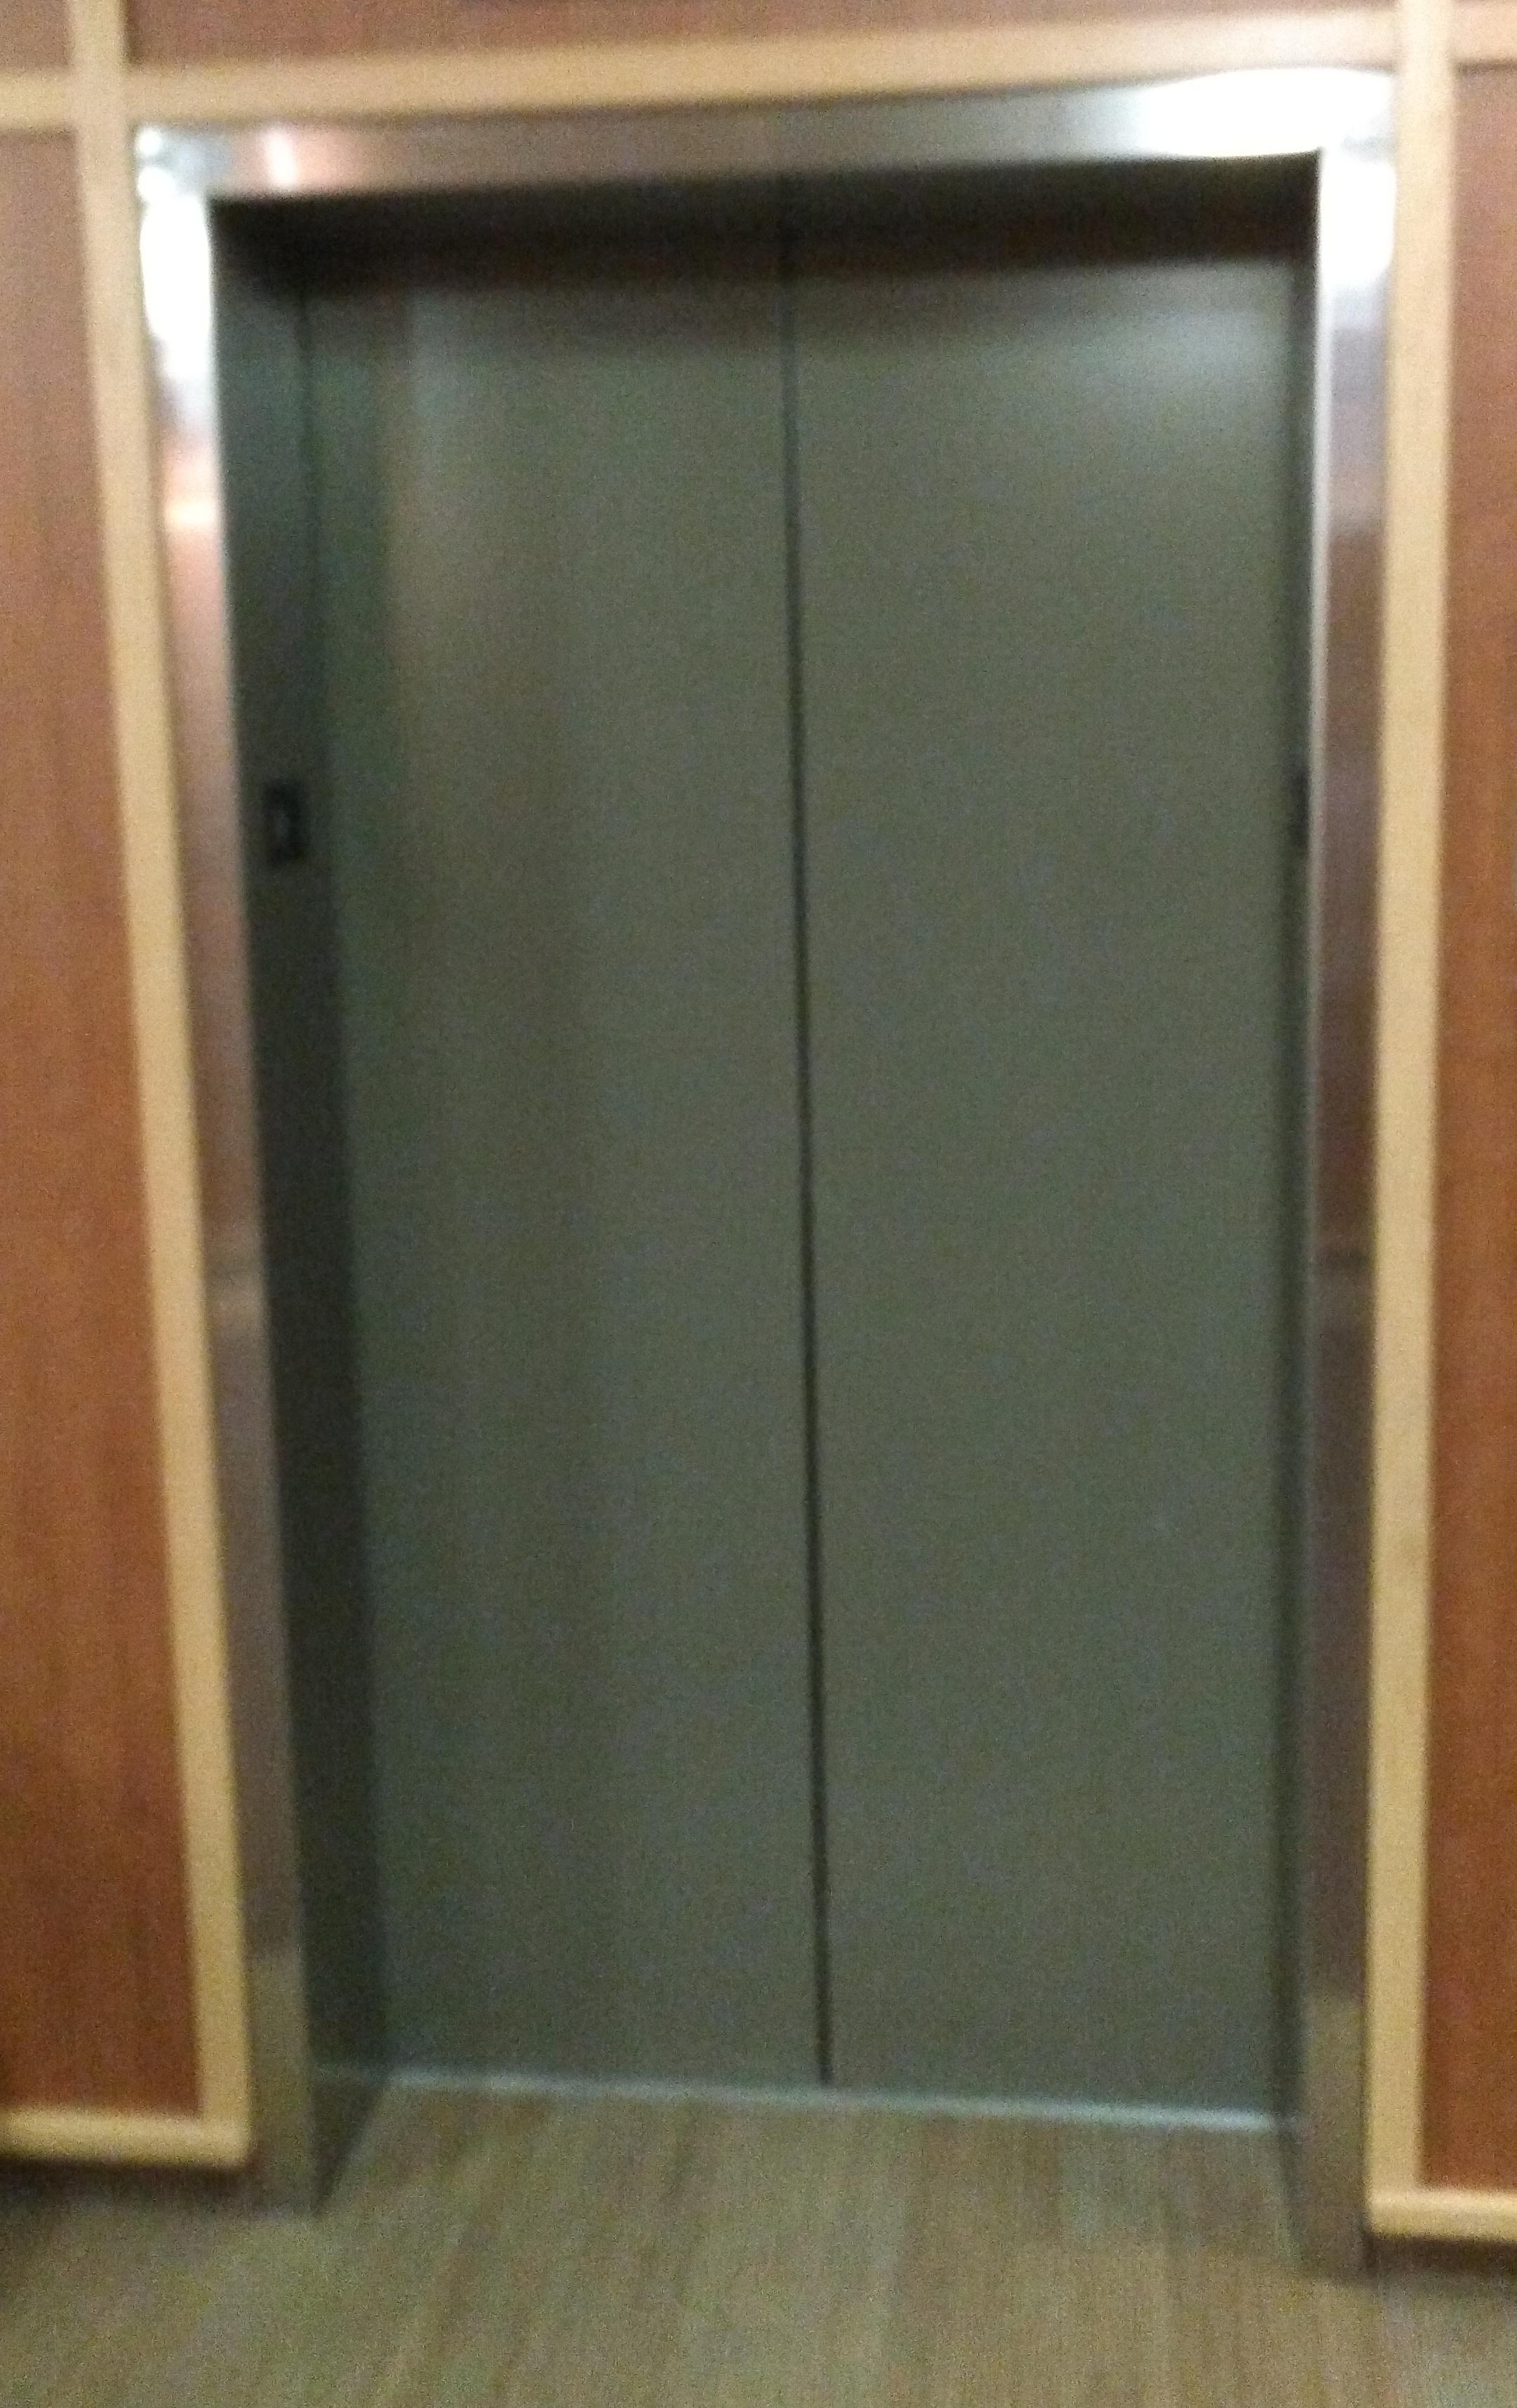door: (145, 143, 1384, 2184)
